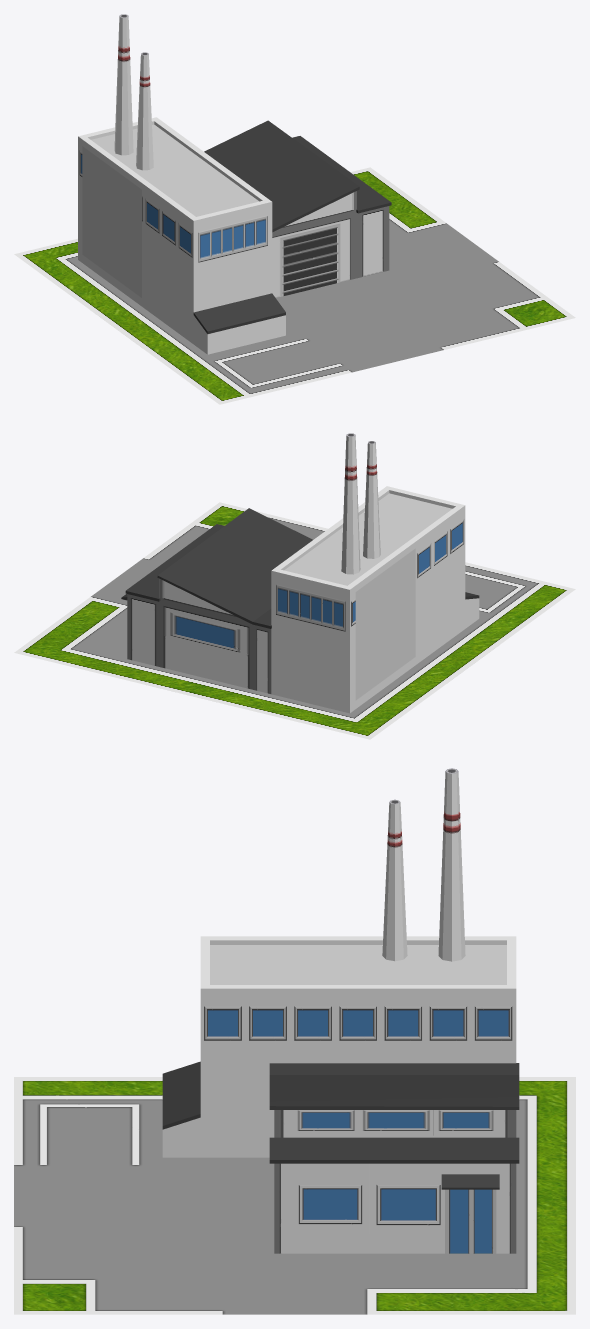
Rendered from Factory_Lvl_2.fbx.
3 views of the same model, one above another, from view 1: azimuth 30°, elevation 25°; view 2: azimuth 150°, elevation 25°; view 3: azimuth 270°, elevation 25° (orthographic). The views are drawn at different scales.
Parts seen in each view (by area): view 1: Factory_Lvl_2, Factory_BG, Graffiti_001; view 2: Factory_Lvl_2, Factory_BG, Graffiti_001; view 3: Factory_Lvl_2, Factory_BG.
Boxes of the visible parts, box(x1,y1,x2,y2) form: Factory_Lvl_2: box(78, 14, 391, 354); Factory_BG: box(14, 167, 575, 404); Graffiti_001: box(82, 146, 141, 297); Factory_Lvl_2: box(121, 433, 479, 713); Factory_BG: box(14, 502, 575, 739); Graffiti_001: box(355, 548, 415, 700); Factory_Lvl_2: box(162, 768, 519, 1253); Factory_BG: box(14, 1077, 575, 1314).
Size of the model in its own units: 2000 by 1371 by 2000.
